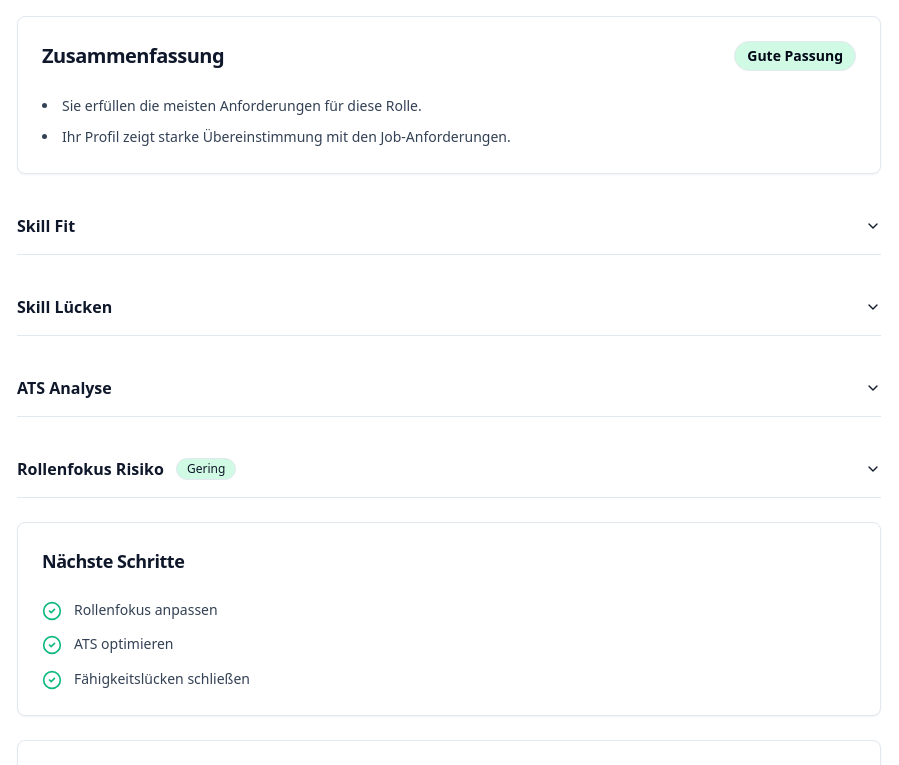
it: ResultsScreen › Skill Gaps section › should render GapActionCard components
Step 1. Click the button "Skill Lücken" → (65, 306), box [17,278,881,334]
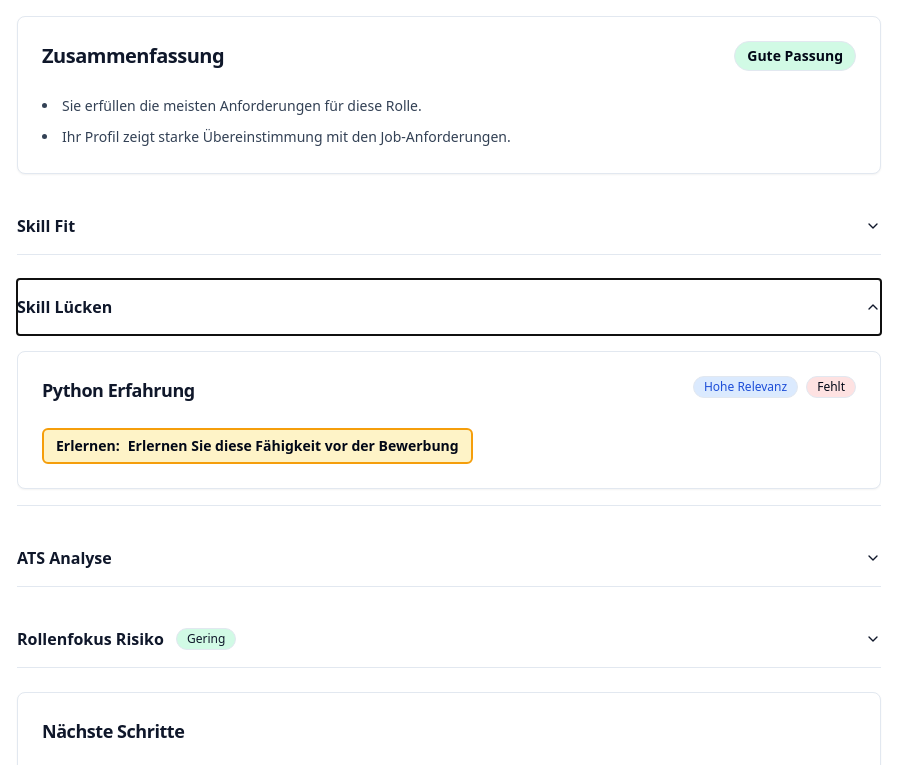
Expected: the heading "Python Erfahrung" is shown, [42,378,195,402]
